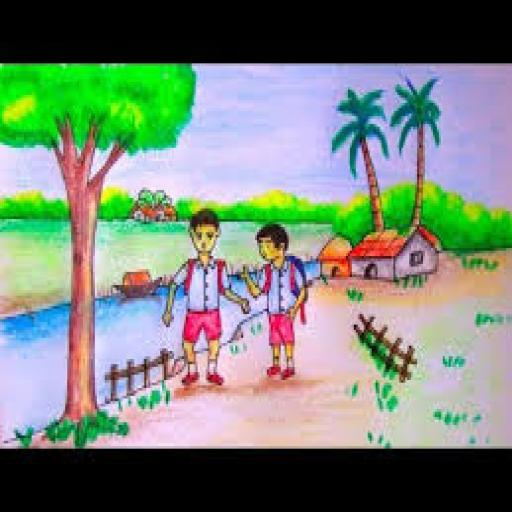person: (157, 208, 251, 396), (240, 222, 310, 380)
